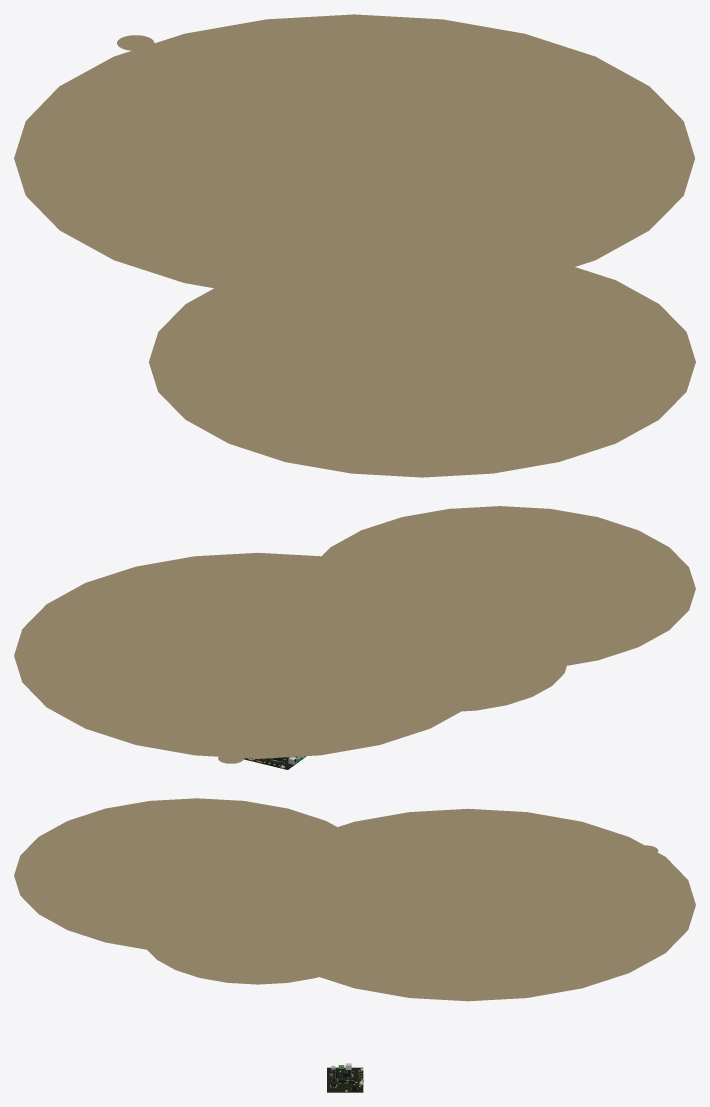
Rendered from parts.glb.
3 views of the same model, one above another, from view 1: azimuth 30°, elevation 25°; view 2: azimuth 150°, elevation 25°; view 3: azimuth 270°, elevation 25° (orthographic). The views are drawn at different scales.
Parts seen in each view (by area): view 1: =>[0:1:1:11] (×2); view 2: =>[0:1:1:11] (×3); view 3: =>[0:1:1:11] (×3), =>[0:1:1:79].
Part boxes in pixels (left/top/right/bottom): =>[0:1:1:11] (×2): left=14, top=14, right=695, bottom=477; =>[0:1:1:11] (×3): left=14, top=506, right=695, bottom=758; =>[0:1:1:11] (×3): left=14, top=798, right=695, bottom=1088; =>[0:1:1:79]: left=327, top=1067, right=363, bottom=1092.
Bounding box in the file's own units: 1.41 × 0.5379 × 1.87.
